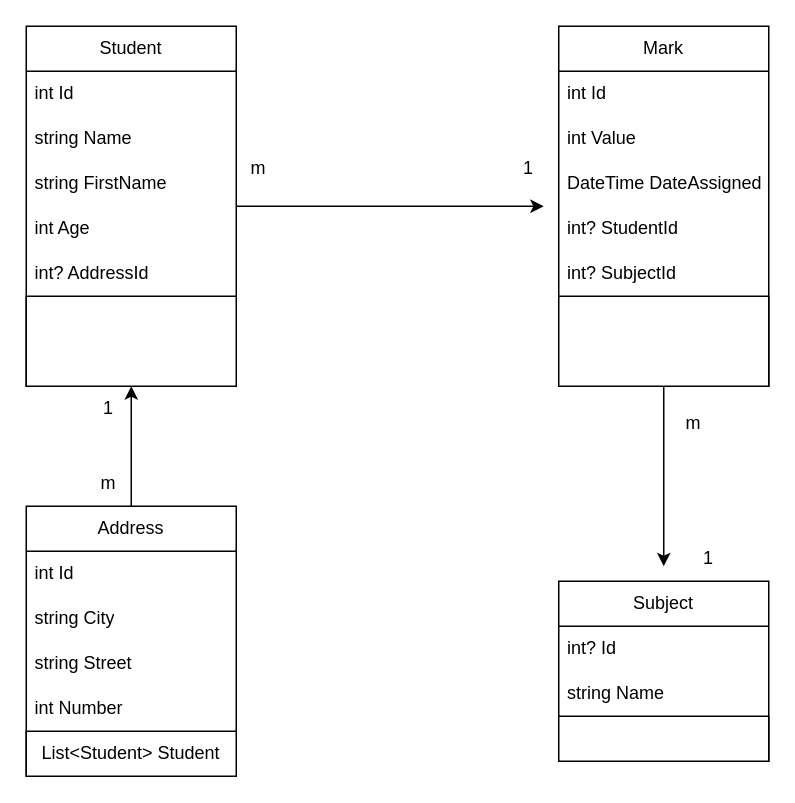
Some shapes in this 795 by 803 pixel diagram are drawn without their labels. The shapes that lost their labels are listed below. From the top down, each one's centre as x and y in pixels, then its label:
point 130,340: List<Student> Student Address Address
point 663,340: Student Student Subject Subject
point 663,738: List<Mark> Mark
